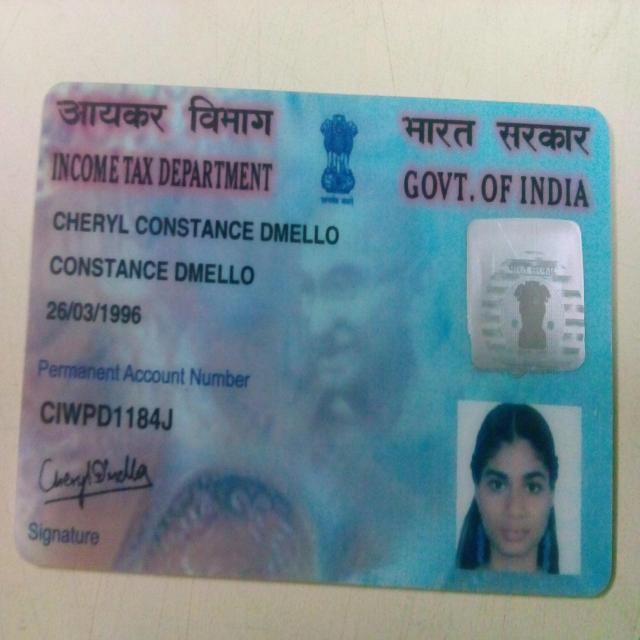pan_card: (16, 87, 608, 593)
